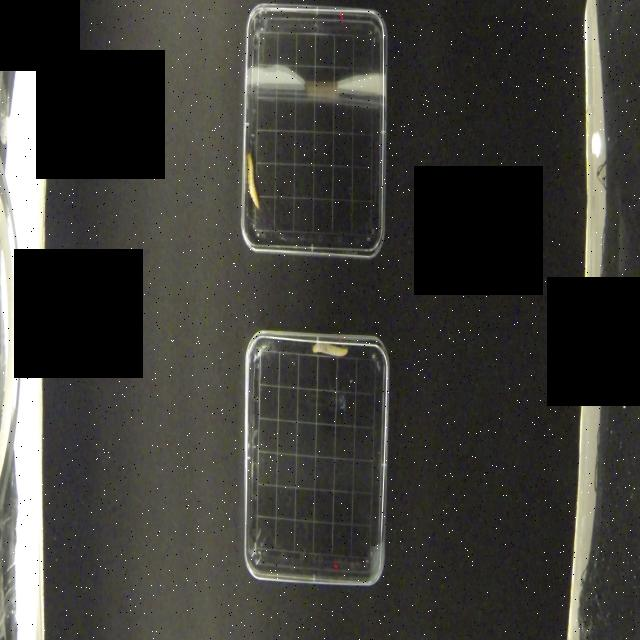larva: (247, 150, 261, 210), (311, 344, 350, 356)
